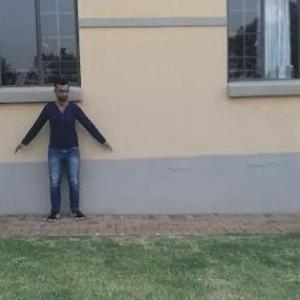land: (15, 81, 114, 233)
